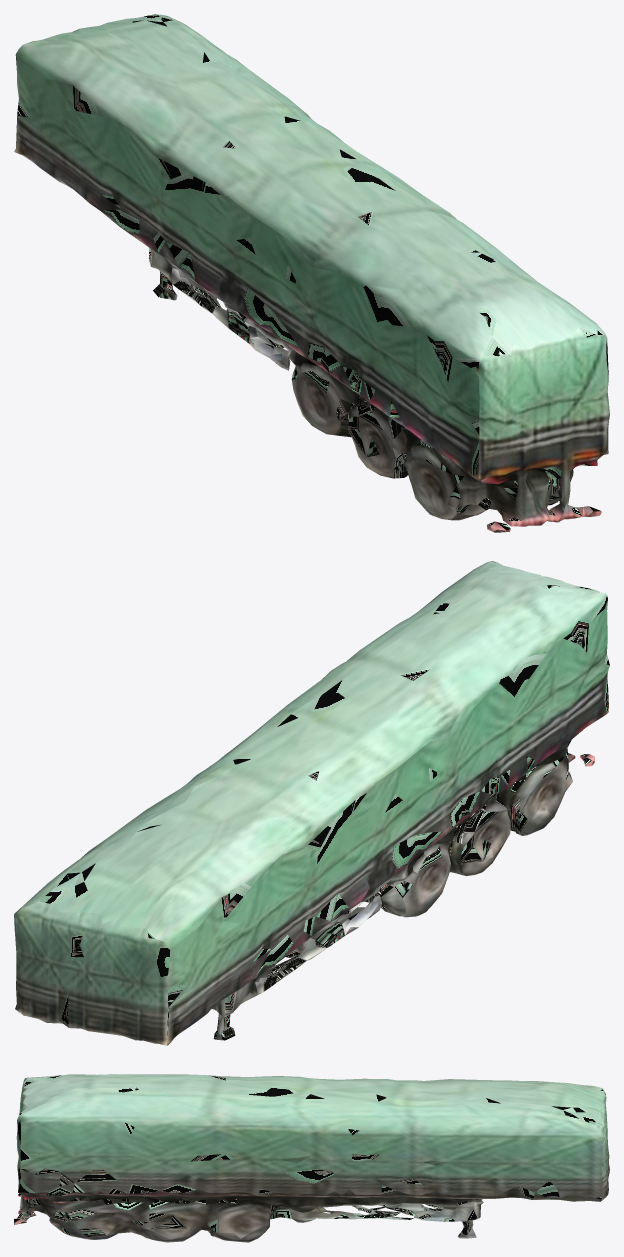
Rendered from reboque-graneleiro.glb.
The picture shows the model from 3 angles, top to bottom: view 1: azimuth 30°, elevation 25°; view 2: azimuth 150°, elevation 25°; view 3: azimuth 270°, elevation 25°; orthographic projection. The views are drawn at different scales.
Visible parts, largest first — view 1: corpo; view 2: corpo; view 3: corpo.
Part boxes in pixels (<box>): corpo: <box>14,14,609,532</box>; corpo: <box>14,561,609,1045</box>; corpo: <box>14,1074,609,1242</box>.
Size of the model in its own units: 2.6 by 3.59 by 13.4.
Materials: 1 (1 with a texture image).
